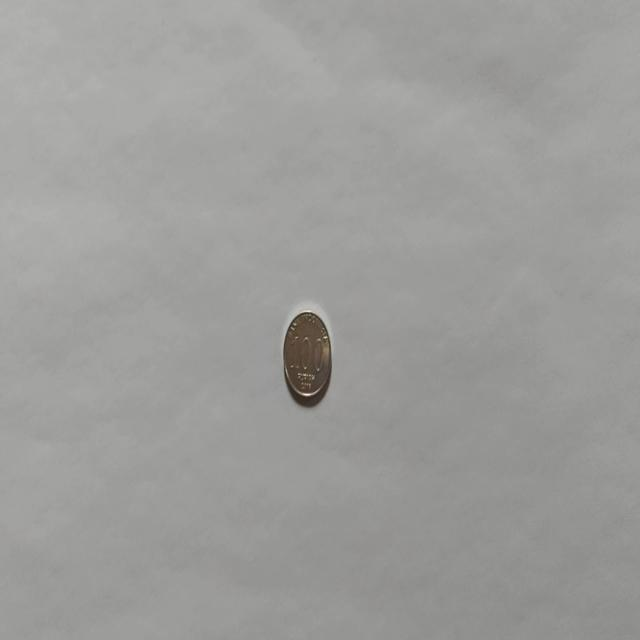seratus rupiah: (282, 308, 332, 406)
